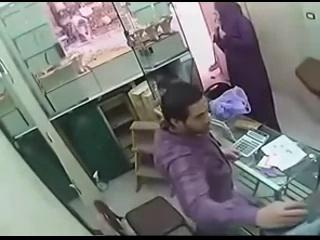Normal: (152, 76, 310, 232), (94, 196, 194, 236), (232, 128, 270, 158)
